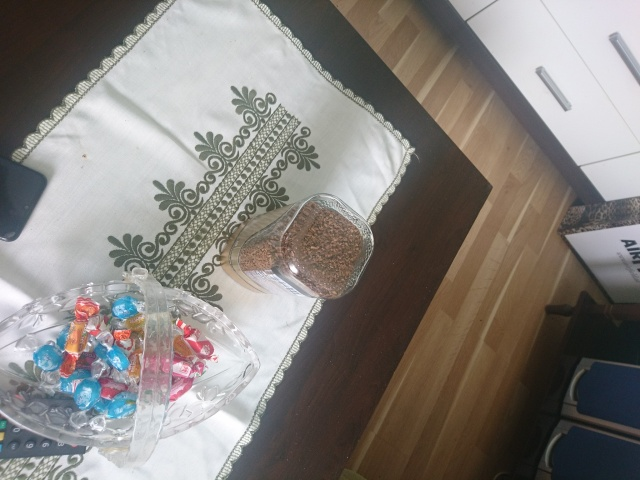Nescafe Gold 225g: (217, 191, 376, 303)
